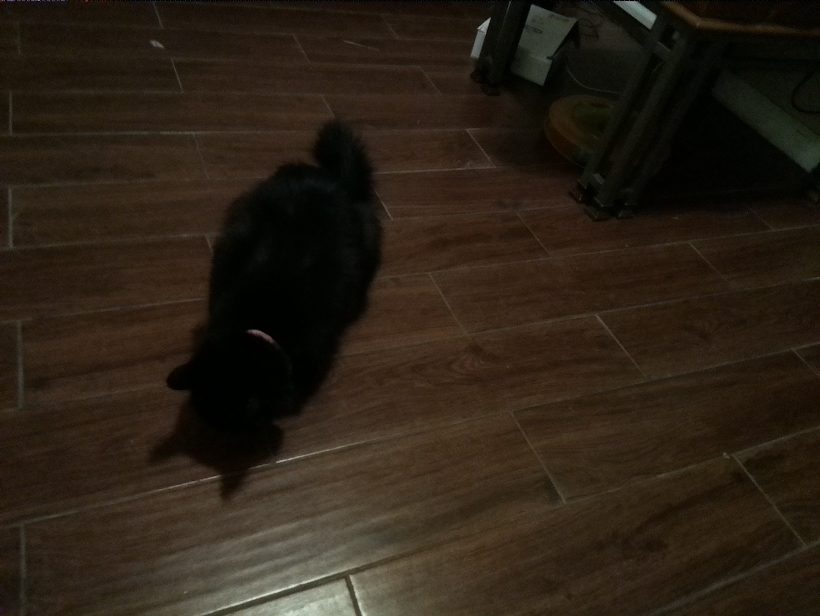cat: (166, 118, 388, 431)
